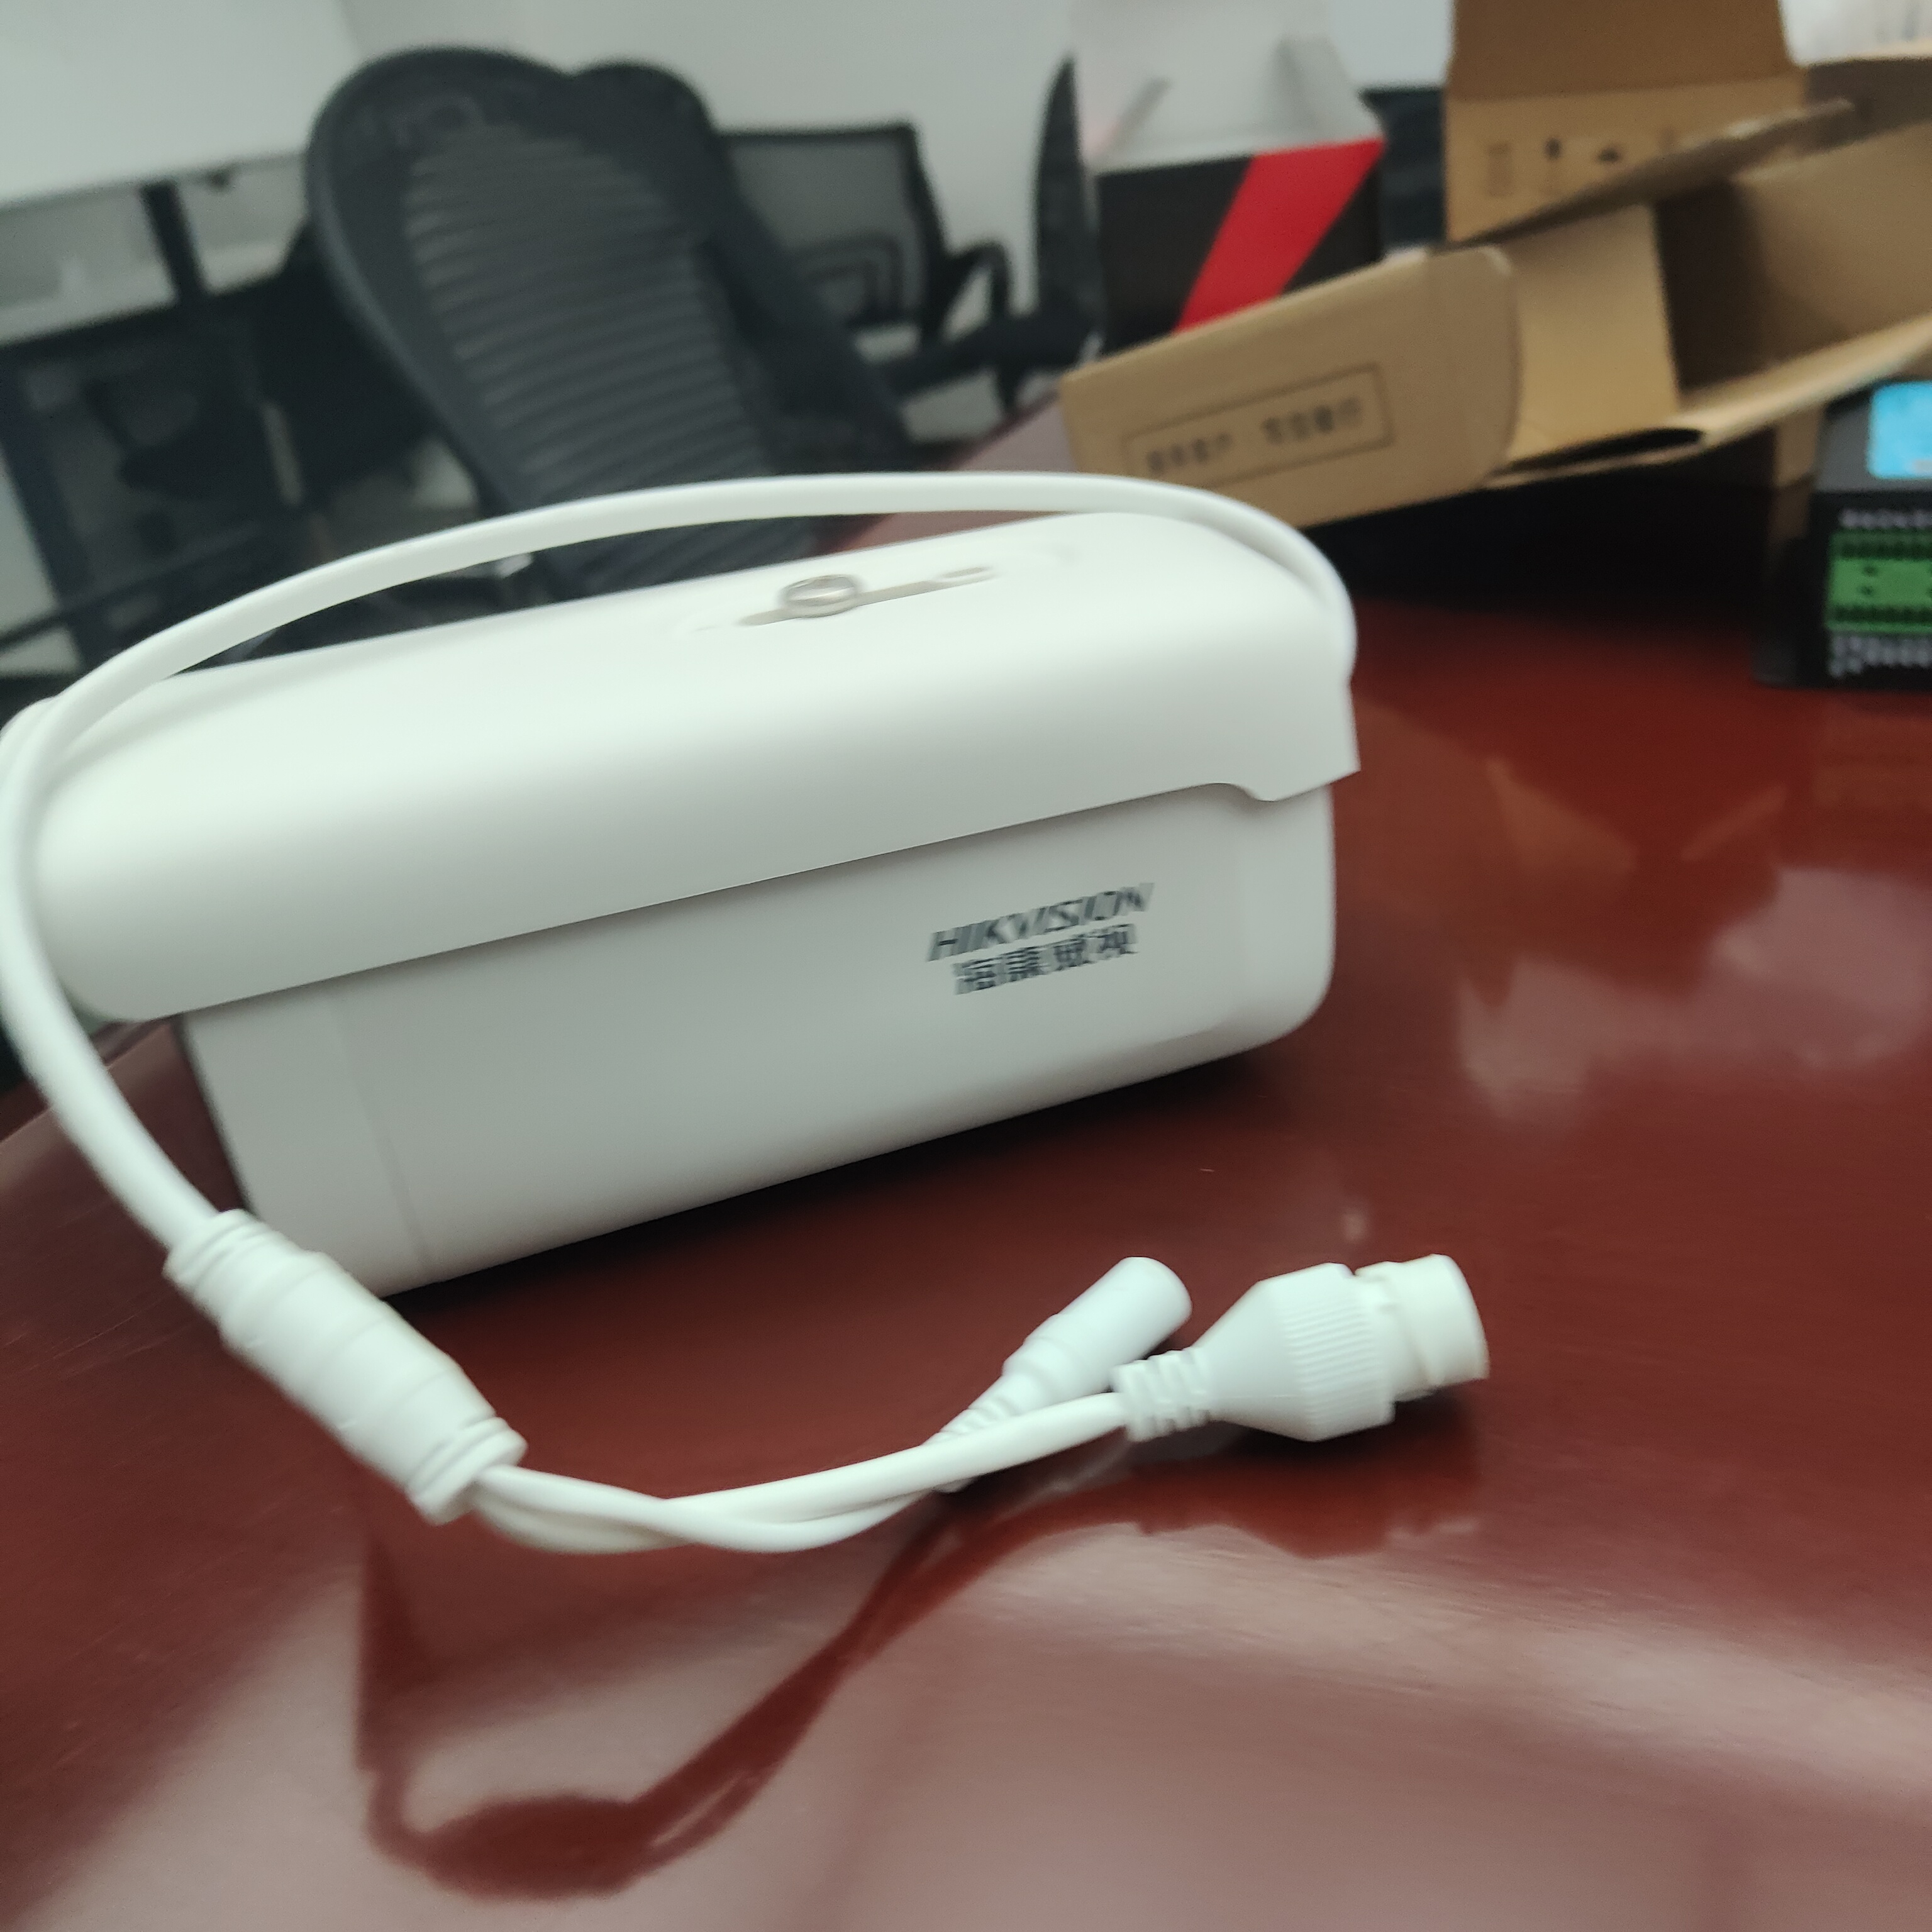hkws: (4, 439, 1366, 1302)
